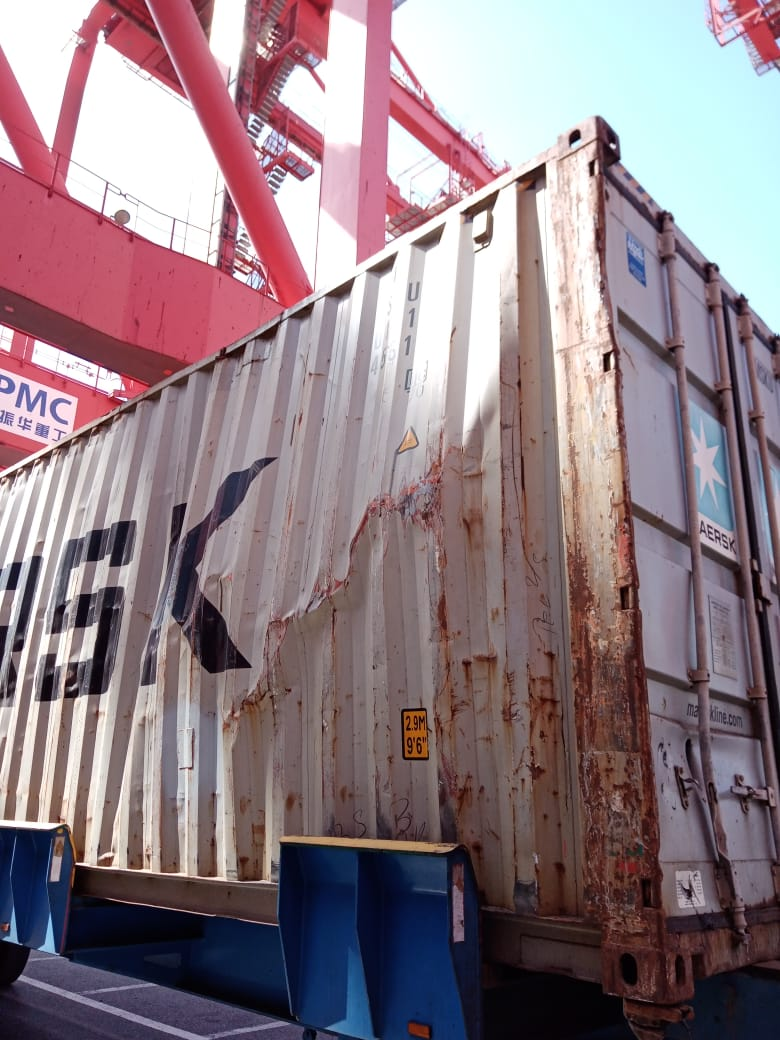bulged: (241, 413, 507, 684)
rust: (567, 530, 651, 913)
